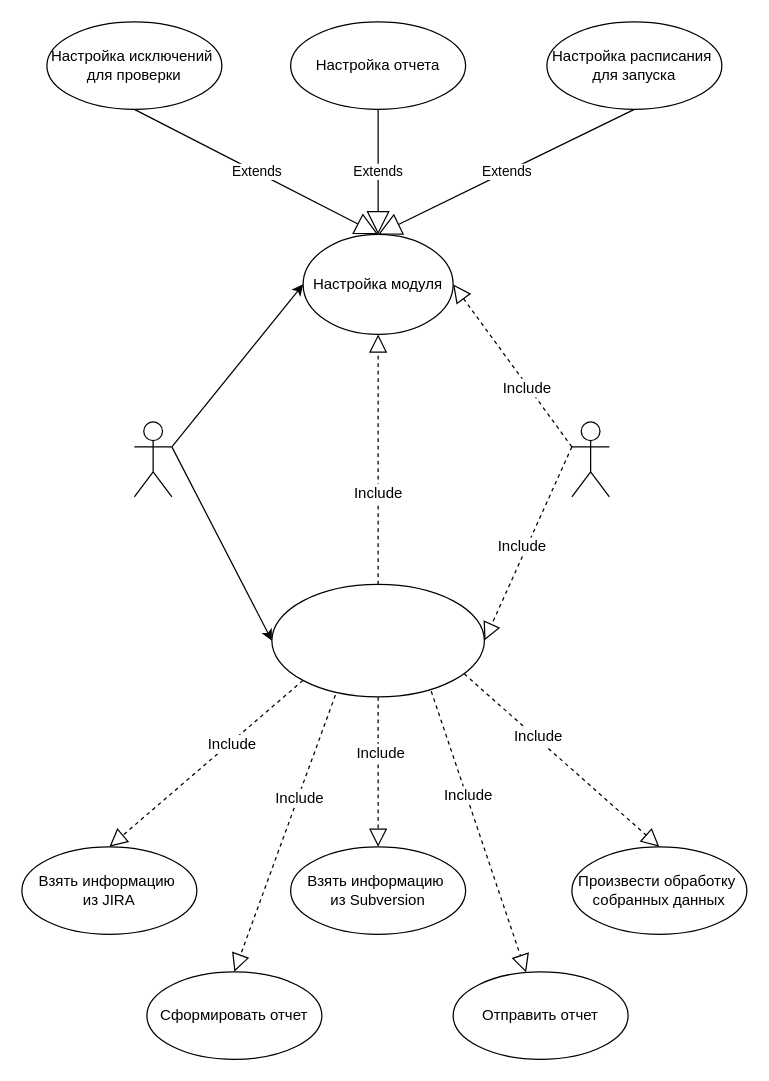
This 769x1081 diagram has some shape labels left out. Each missing label, with the centre of its shape:
"Генерация отчета по кол-ву ошибок в проекте" goes at (377,640).
"Менеджер проекта" goes at (152,459).
"Модуль системы CSIA" goes at (590,459).
